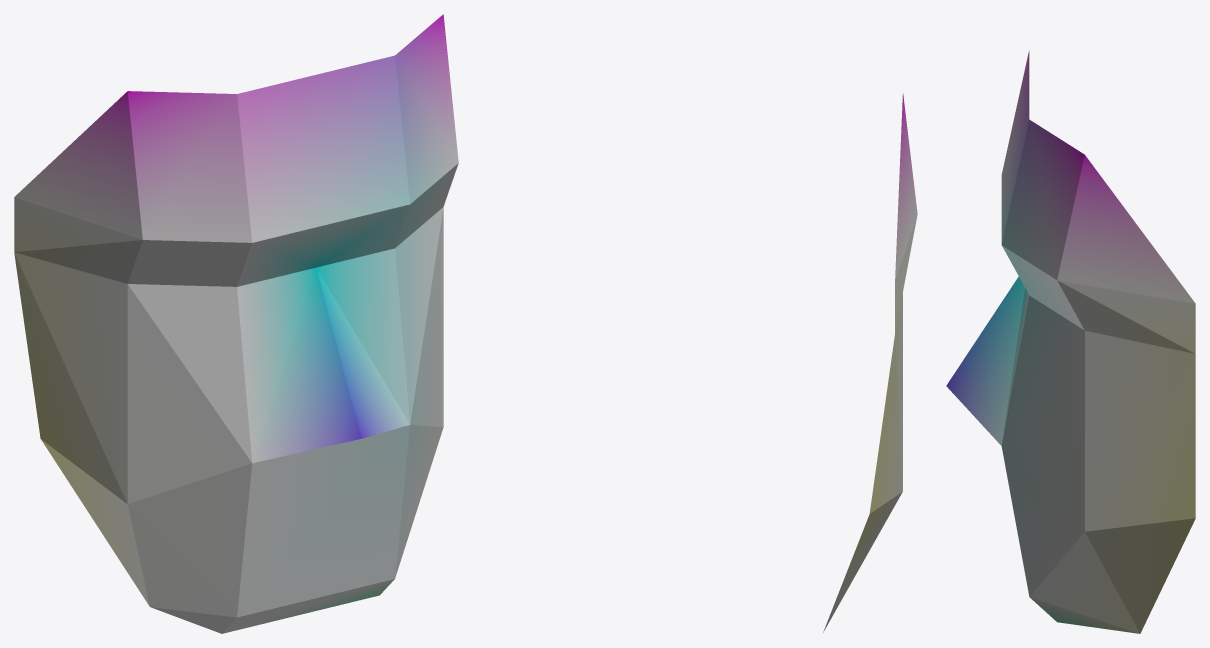
3 renders of one model, left to right at view 1: azimuth 30°, elevation 25°; view 2: azimuth 150°, elevation 25°; view 3: azimuth 270°, elevation 25°, orthographic. The views are drawn at different scales.
Visible parts, largest first — view 1: model_13F3; view 2: model_13F3; view 3: model_13F3.
Part boxes in pixels (x1,y1,x2,y2): model_13F3: (14,14,458,633); model_13F3: (823,93,917,632); model_13F3: (946,50,1195,633).
Bounding box in the file's own units: 16 × 20 × 9.
